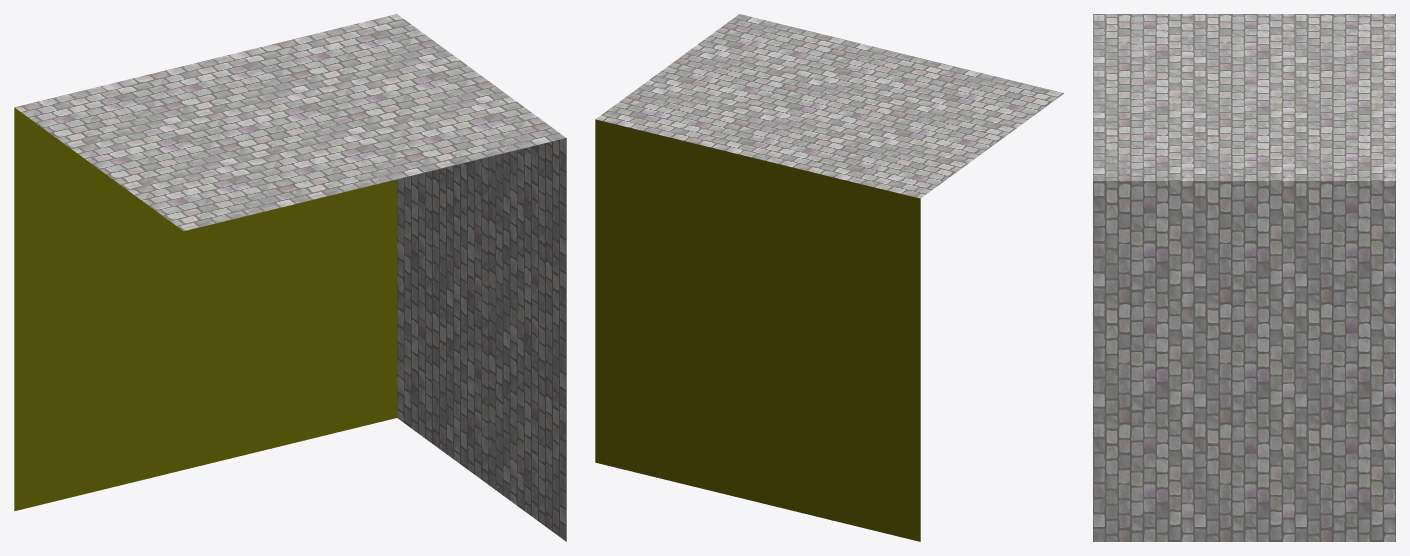
File: Glaeser_liquid2.obj
3 views of the same model, side by side, from view 1: azimuth 30°, elevation 25°; view 2: azimuth 150°, elevation 25°; view 3: azimuth 270°, elevation 25° (orthographic). The views are drawn at different scales.
Parts seen in each view (by area): view 1: Mesh.001_Room_Box; view 2: Mesh.001_Room_Box; view 3: Mesh.001_Room_Box.
Part boxes in pixels (x1=…): Mesh.001_Room_Box: x1=14, y1=14, x2=566, y2=541; Mesh.001_Room_Box: x1=595, y1=14, x2=1063, y2=541; Mesh.001_Room_Box: x1=1093, y1=14, x2=1395, y2=541.
Bounding box in the file's own units: 16.84 × 16.99 × 12.92.
Materials: 4 (1 with a texture image).
